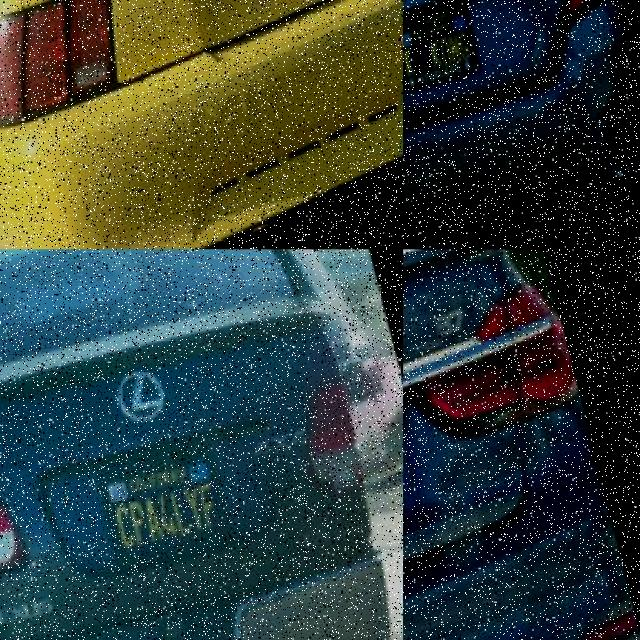licenseplate: (95, 437, 232, 578), (403, 431, 475, 578), (403, 0, 485, 105)
